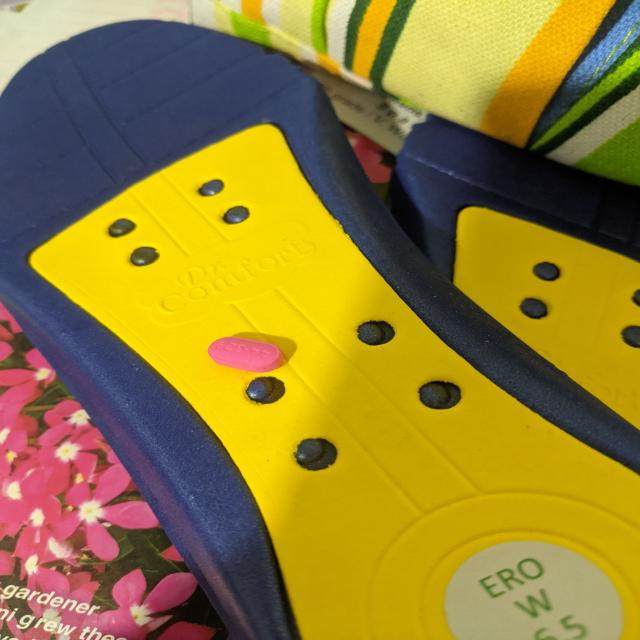non-organic waste: (207, 336, 284, 374)
